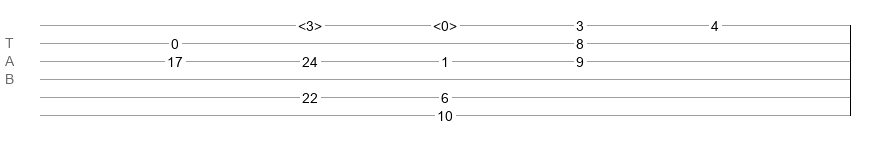0: (171, 36, 179, 46)
1: (441, 54, 449, 64)
10: (437, 108, 453, 118)
17: (167, 54, 183, 64)
22: (302, 90, 318, 100)
24: (302, 54, 318, 64)
3: (576, 18, 584, 28)
4: (711, 18, 719, 28)
6: (441, 90, 449, 100)
8: (576, 36, 584, 46)
9: (576, 54, 584, 64)
harmonic: (298, 18, 322, 28), (433, 18, 457, 28)
